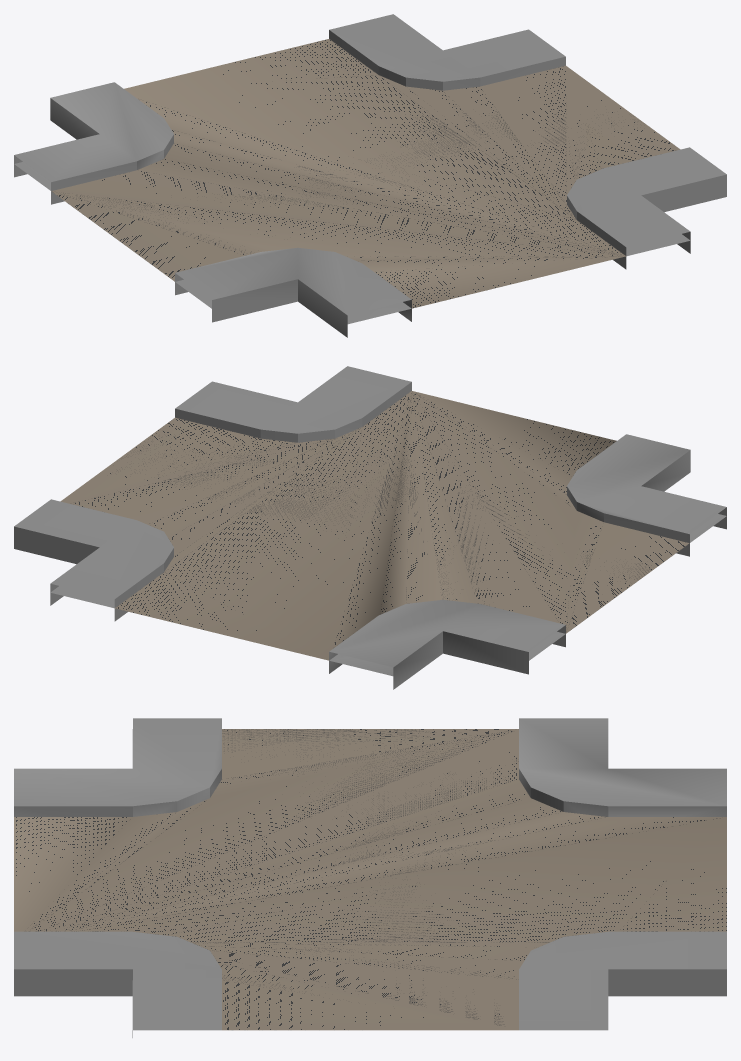
3 renders of one model, top to bottom at view 1: azimuth 30°, elevation 25°; view 2: azimuth 150°, elevation 25°; view 3: azimuth 270°, elevation 25°, orthographic. The views are drawn at different scales.
Parts seen in each view (by area): view 1: Model_0, Skybox; view 2: Model_0, Skybox; view 3: Model_0, Skybox.
Part boxes in pixels (<box>): Model_0: <box>14,14,726,337</box>; Skybox: <box>14,94,689,324</box>; Model_0: <box>14,366,726,689</box>; Skybox: <box>51,391,726,676</box>; Model_0: <box>14,718,726,1037</box>; Skybox: <box>14,729,608,1030</box>.
Size of what is drawn, in the model's own units: 2400 by 100 by 2400.
